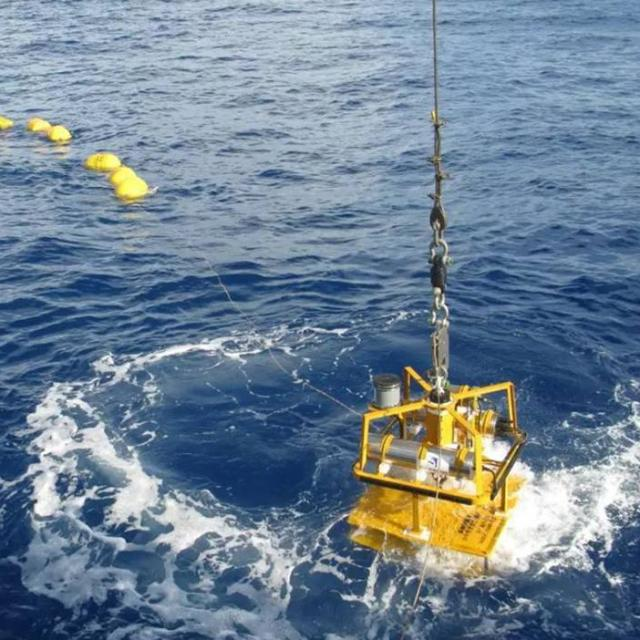buoy: (346, 358, 542, 560)
